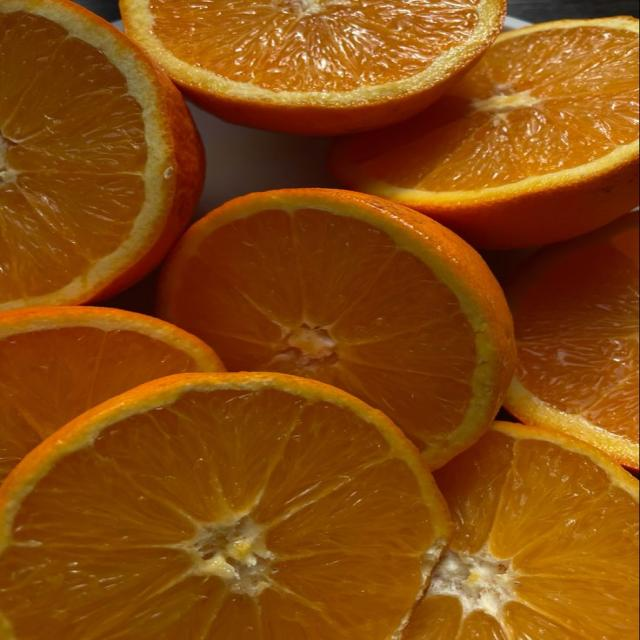orange: (0, 373, 450, 639), (159, 189, 514, 467), (330, 17, 638, 248), (0, 0, 203, 309), (120, 0, 505, 134), (402, 423, 639, 639), (0, 307, 224, 482), (504, 213, 639, 468)
